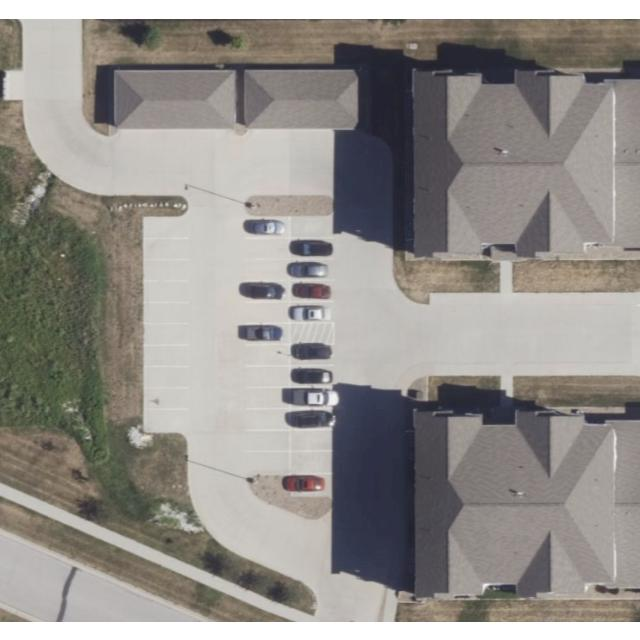Empty: (244, 451, 290, 475), (242, 258, 290, 280), (143, 216, 189, 238), (144, 280, 190, 302), (144, 301, 190, 323), (244, 408, 290, 430), (244, 301, 290, 323), (144, 258, 188, 280), (246, 386, 290, 408), (145, 367, 191, 388), (145, 388, 193, 408), (290, 216, 332, 238), (143, 238, 189, 258), (145, 324, 191, 344), (145, 345, 191, 365), (244, 430, 290, 450), (244, 344, 290, 364), (290, 430, 334, 450), (245, 238, 289, 258), (247, 366, 290, 386), (290, 452, 332, 472)
Parked: (242, 215, 290, 237), (289, 300, 337, 322), (243, 322, 289, 344), (290, 387, 336, 408), (242, 281, 290, 301), (288, 280, 336, 300), (290, 344, 336, 364), (290, 366, 336, 386), (290, 409, 336, 429), (290, 238, 334, 258), (290, 259, 334, 279), (292, 475, 332, 497)
